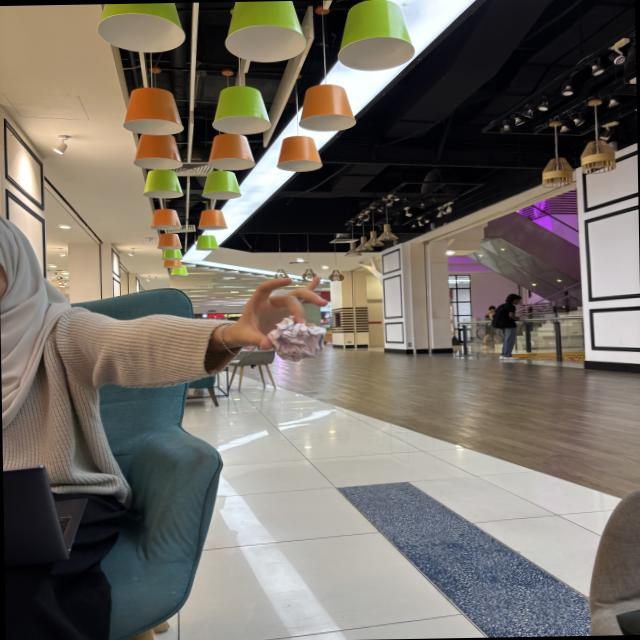crumpled_paper: (266, 313, 329, 364)
